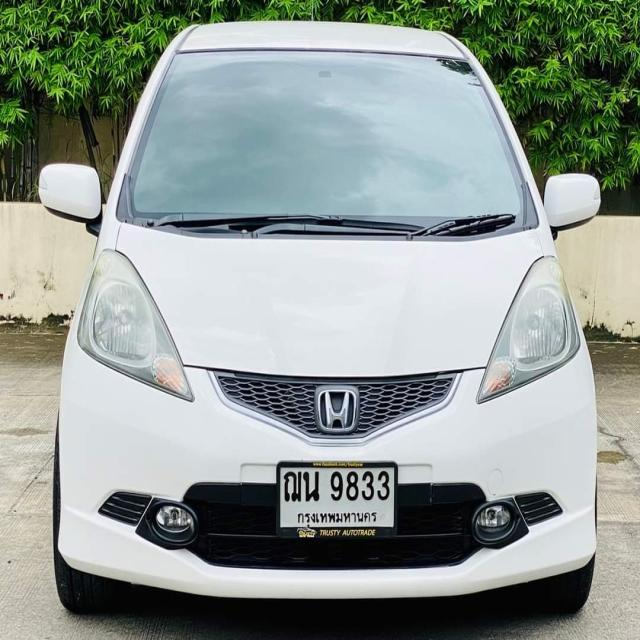license_plate: (276, 460, 399, 541)
